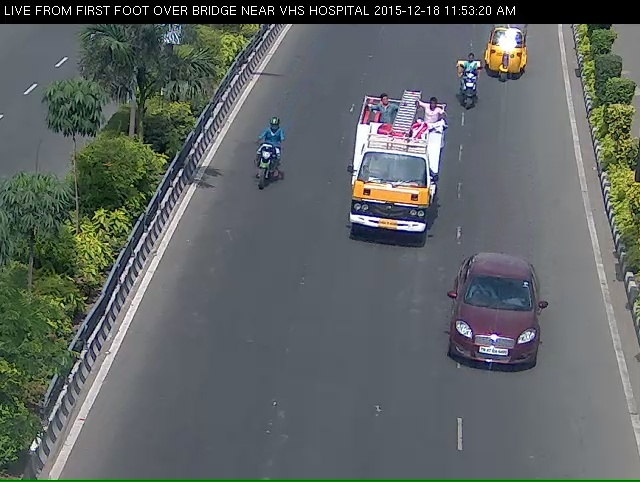Auto: (485, 22, 528, 95)
Bus: (352, 103, 434, 268)
Car: (441, 279, 547, 416)
Person: (240, 139, 277, 223), (453, 58, 482, 121)
